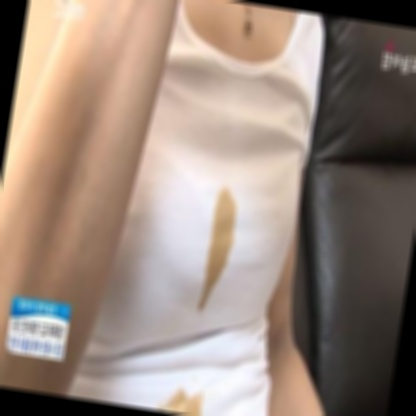coffee: (206, 190, 234, 282)
